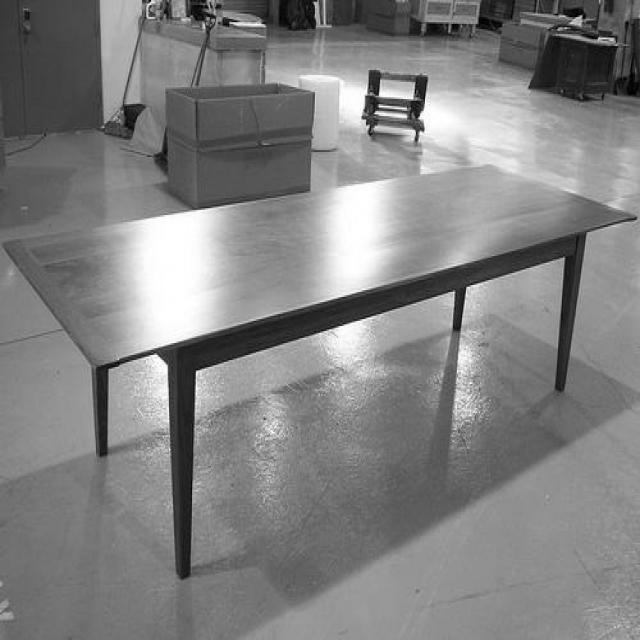table: (4, 164, 636, 576)
